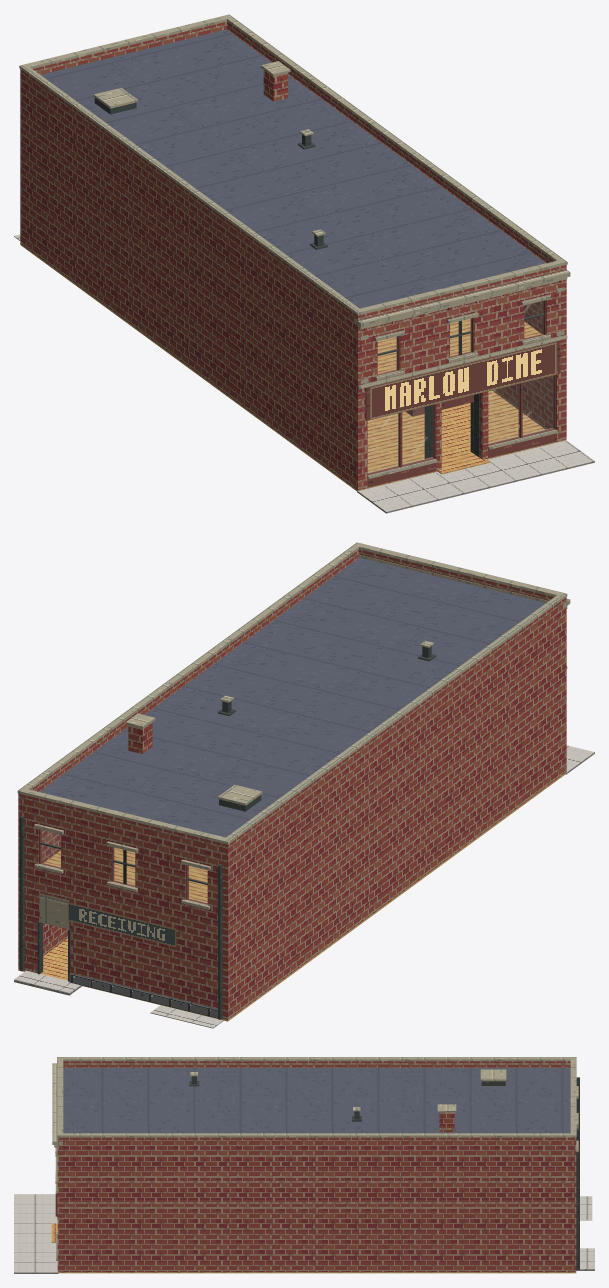
The model's file is marlow-1925-mid.glb.
The picture shows the model from 3 angles, top to bottom: view 1: azimuth 30°, elevation 25°; view 2: azimuth 150°, elevation 25°; view 3: azimuth 270°, elevation 25°; orthographic projection. The views are drawn at different scales.
Visible parts, largest first — view 1: building_shell, roof_and_parapet, Shared street sidewalk, sign_name; view 2: building_shell, roof_and_parapet, sign_receiving, Rear receiving pad, lot; view 3: building_shell, roof_and_parapet, Shared street sidewalk, Rear receiving pad, lot.
Boxes of the visible parts, left/top/right/bottom form: building_shell: left=20, top=29, right=567, bottom=491; roof_and_parapet: left=19, top=14, right=570, bottom=330; Shared street sidewalk: left=357, top=440, right=594, bottom=513; sign_name: left=370, top=342, right=556, bottom=419; building_shell: left=18, top=557, right=567, bottom=1021; roof_and_parapet: left=17, top=542, right=570, bottom=854; sign_receiving: left=67, top=902, right=176, bottom=947; Rear receiving pad: left=14, top=970, right=81, bottom=995; lot: left=150, top=1005, right=223, bottom=1028; building_shell: left=51, top=1067, right=579, bottom=1273; roof_and_parapet: left=52, top=1057, right=576, bottom=1147; Shared street sidewalk: left=14, top=1194, right=58, bottom=1273; Rear receiving pad: left=576, top=1248, right=594, bottom=1270; lot: left=580, top=1196, right=592, bottom=1220.
Size of what is drawn, in the model's own units: 10.05 by 9.06 by 31.36.
10 materials, 10 textured.
